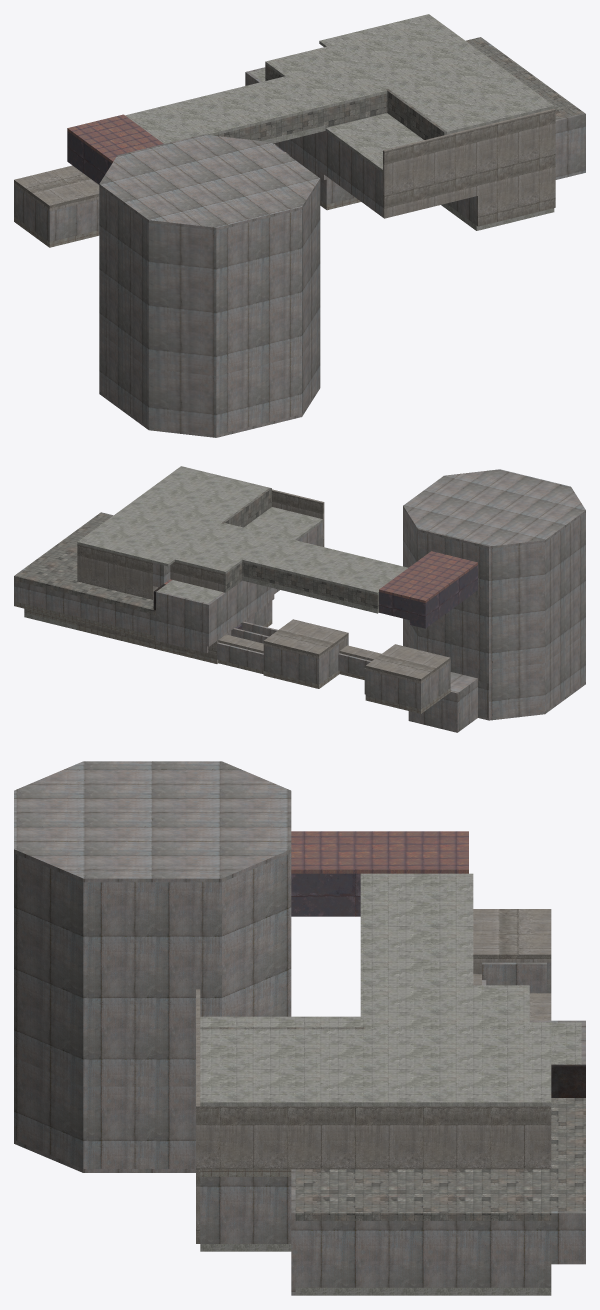
3 views of the same model, one above another, from view 1: azimuth 30°, elevation 25°; view 2: azimuth 150°, elevation 25°; view 3: azimuth 270°, elevation 25° (orthographic). The views are drawn at different scales.
Visible parts, largest first — view 1: entity0_brush130, entity0_brush132, entity0_brush133, entity0_brush134, entity0_brush84, entity0_brush6, entity0_brush129, entity0_brush87, entity0_brush158, entity0_brush40, entity0_brush157, entity0_brush128 (+21 smaller); view 2: entity0_brush130, entity0_brush135, entity0_brush84, entity0_brush134, entity0_brush6, entity0_brush87, entity0_brush139, entity0_brush117, entity0_brush86, entity0_brush155, entity0_brush128, entity0_brush15 (+41 smaller); view 3: entity0_brush130, entity0_brush136, entity0_brush85, entity0_brush84, entity0_brush138, entity0_brush111, entity0_brush6, entity0_brush87, entity0_brush109, entity0_brush137, entity0_brush160, entity0_brush15 (+17 smaller).
Part boxes in pixels (x1=…): entity0_brush130: x1=99, y1=134, x2=320, y2=230; entity0_brush132: x1=216, y1=209, x2=301, y2=376; entity0_brush133: x1=148, y1=223, x2=216, y2=376; entity0_brush134: x1=99, y1=187, x2=148, y2=368; entity0_brush84: x1=319, y1=14, x2=494, y2=89; entity0_brush6: x1=125, y1=76, x2=325, y2=143; entity0_brush129: x1=383, y1=127, x2=477, y2=218; entity0_brush87: x1=388, y1=62, x2=554, y2=134; entity0_brush158: x1=216, y1=355, x2=301, y2=434; entity0_brush40: x1=476, y1=154, x2=555, y2=226; entity0_brush157: x1=148, y1=368, x2=216, y2=434; entity0_brush128: x1=265, y1=46, x2=387, y2=108; entity0_brush130: x1=403, y1=469, x2=585, y2=548; entity0_brush135: x1=489, y1=542, x2=544, y2=669; entity0_brush84: x1=77, y1=501, x2=222, y2=566; entity0_brush134: x1=545, y1=513, x2=585, y2=662; entity0_brush6: x1=242, y1=535, x2=408, y2=594; entity0_brush87: x1=133, y1=466, x2=269, y2=523; entity0_brush139: x1=418, y1=593, x2=488, y2=669; entity0_brush117: x1=16, y1=581, x2=155, y2=635; entity0_brush86: x1=79, y1=545, x2=153, y2=599; entity0_brush155: x1=489, y1=663, x2=544, y2=718; entity0_brush128: x1=174, y1=523, x2=275, y2=574; entity0_brush15: x1=379, y1=551, x2=477, y2=602; entity0_brush130: x1=14, y1=761, x2=291, y2=882; entity0_brush136: x1=83, y1=882, x2=221, y2=1086; entity0_brush85: x1=295, y1=1106, x2=551, y2=1169; entity0_brush84: x1=365, y1=1027, x2=551, y2=1106; entity0_brush138: x1=14, y1=853, x2=83, y2=1086; entity0_brush111: x1=295, y1=1169, x2=551, y2=1220; entity0_brush6: x1=360, y1=873, x2=473, y2=985; entity0_brush87: x1=200, y1=1029, x2=364, y2=1106; entity0_brush109: x1=360, y1=1221, x2=551, y2=1287; entity0_brush137: x1=222, y1=853, x2=291, y2=1016; entity0_brush160: x1=83, y1=1086, x2=195, y2=1168; entity0_brush15: x1=291, y1=831, x2=468, y2=873.
Size of the model in its own units: 3056 by 1200 by 2112.
Materials: 10 (10 with a texture image).
